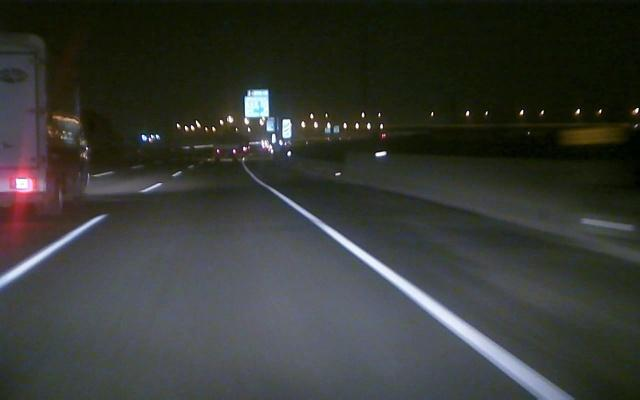lane: (256, 179, 572, 396), (1, 182, 164, 288)
